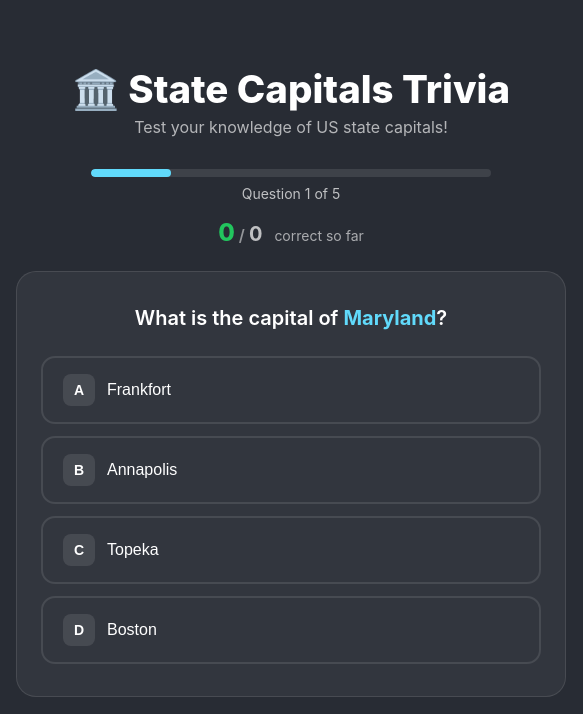
it: StateCapitalsPage – interactions › shows feedback when an answer is selected
Click the button with aria-label "Answer option:": (79, 390) x1=41 y1=356 x2=541 y2=424
(page scrolled)
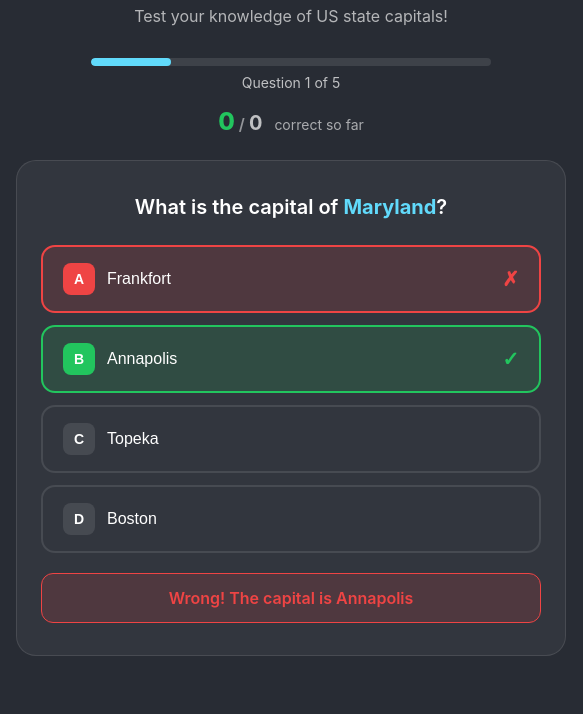
expect the message reads "Wrong! The capital is Annapolis": met, box x1=169 y1=588 x2=413 y2=608
